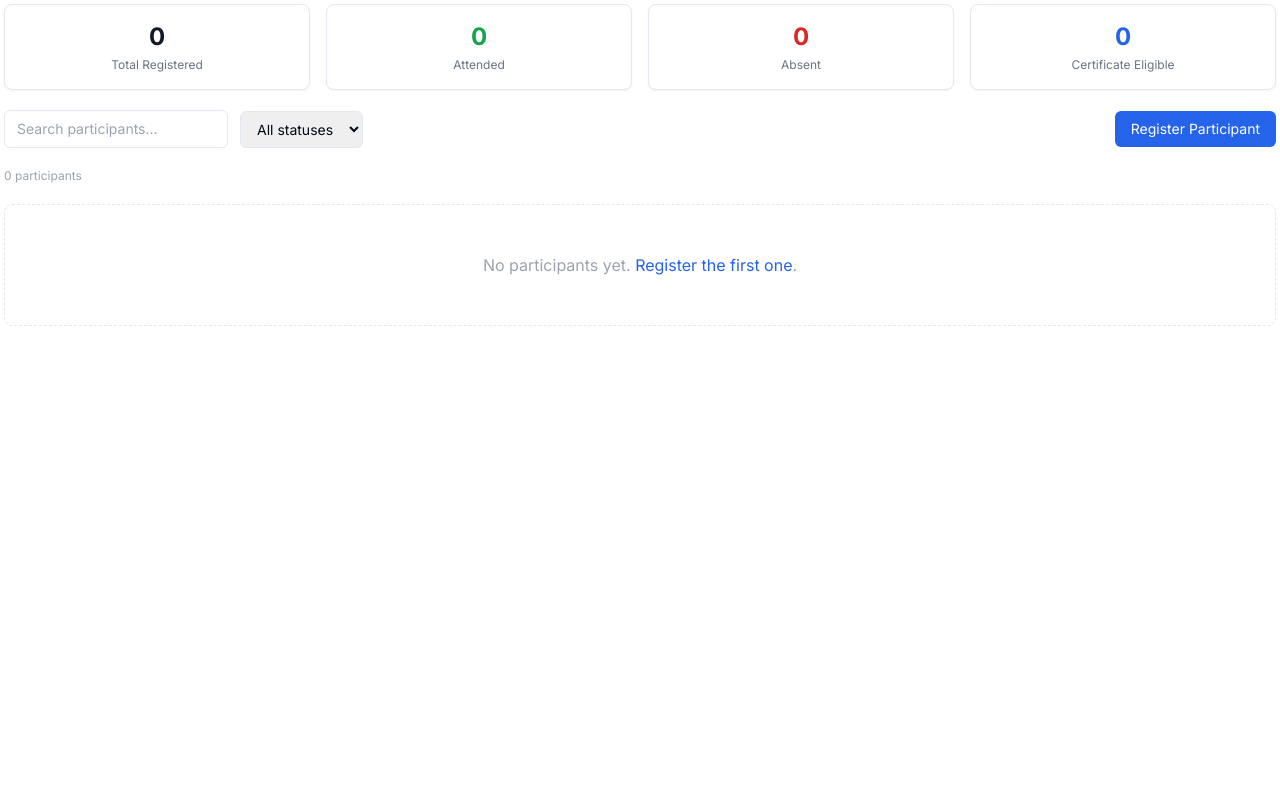
Test: AttendanceCenter › Empty state › clicking btn-register-empty opens register dialog
The image size is (1280, 800).
Click the button with test id "btn-register-empty" at (714, 265), box [635, 253, 792, 277]
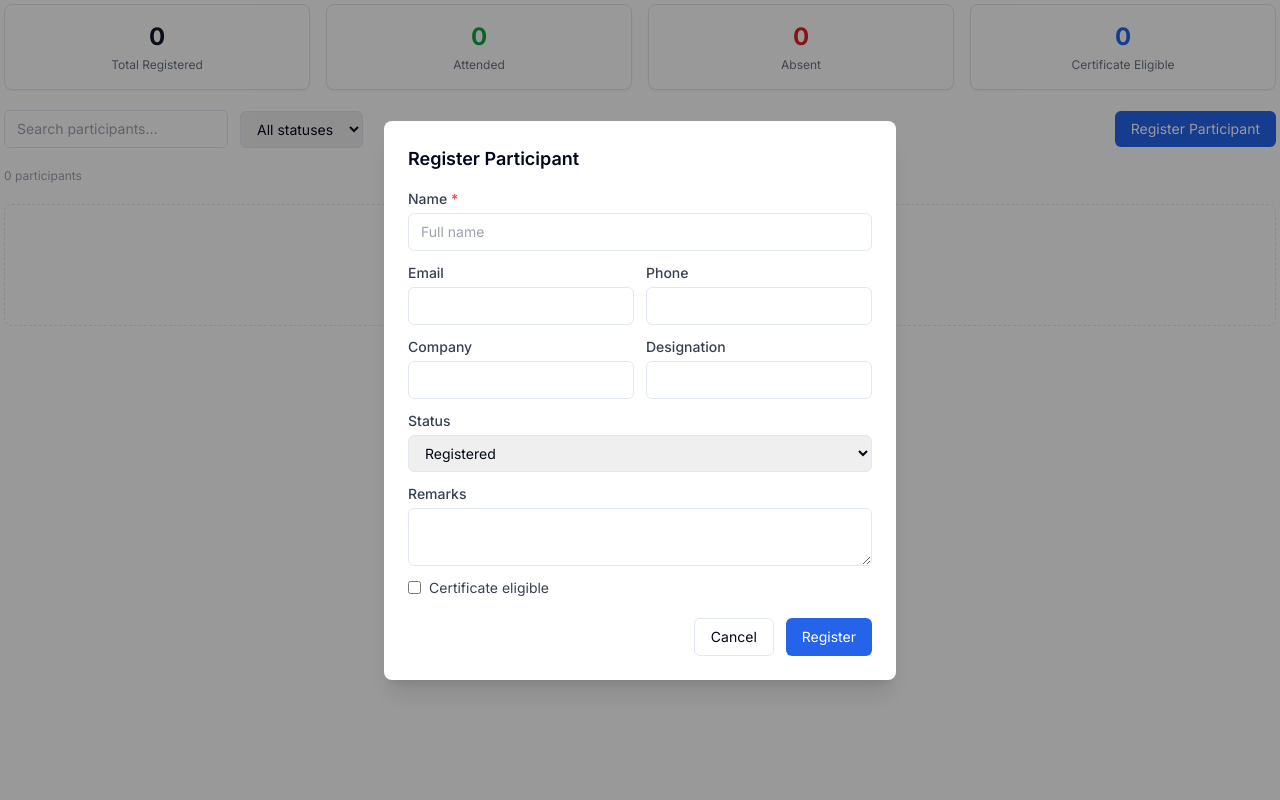
Expected: the dialog with test id "register-dialog" is shown
